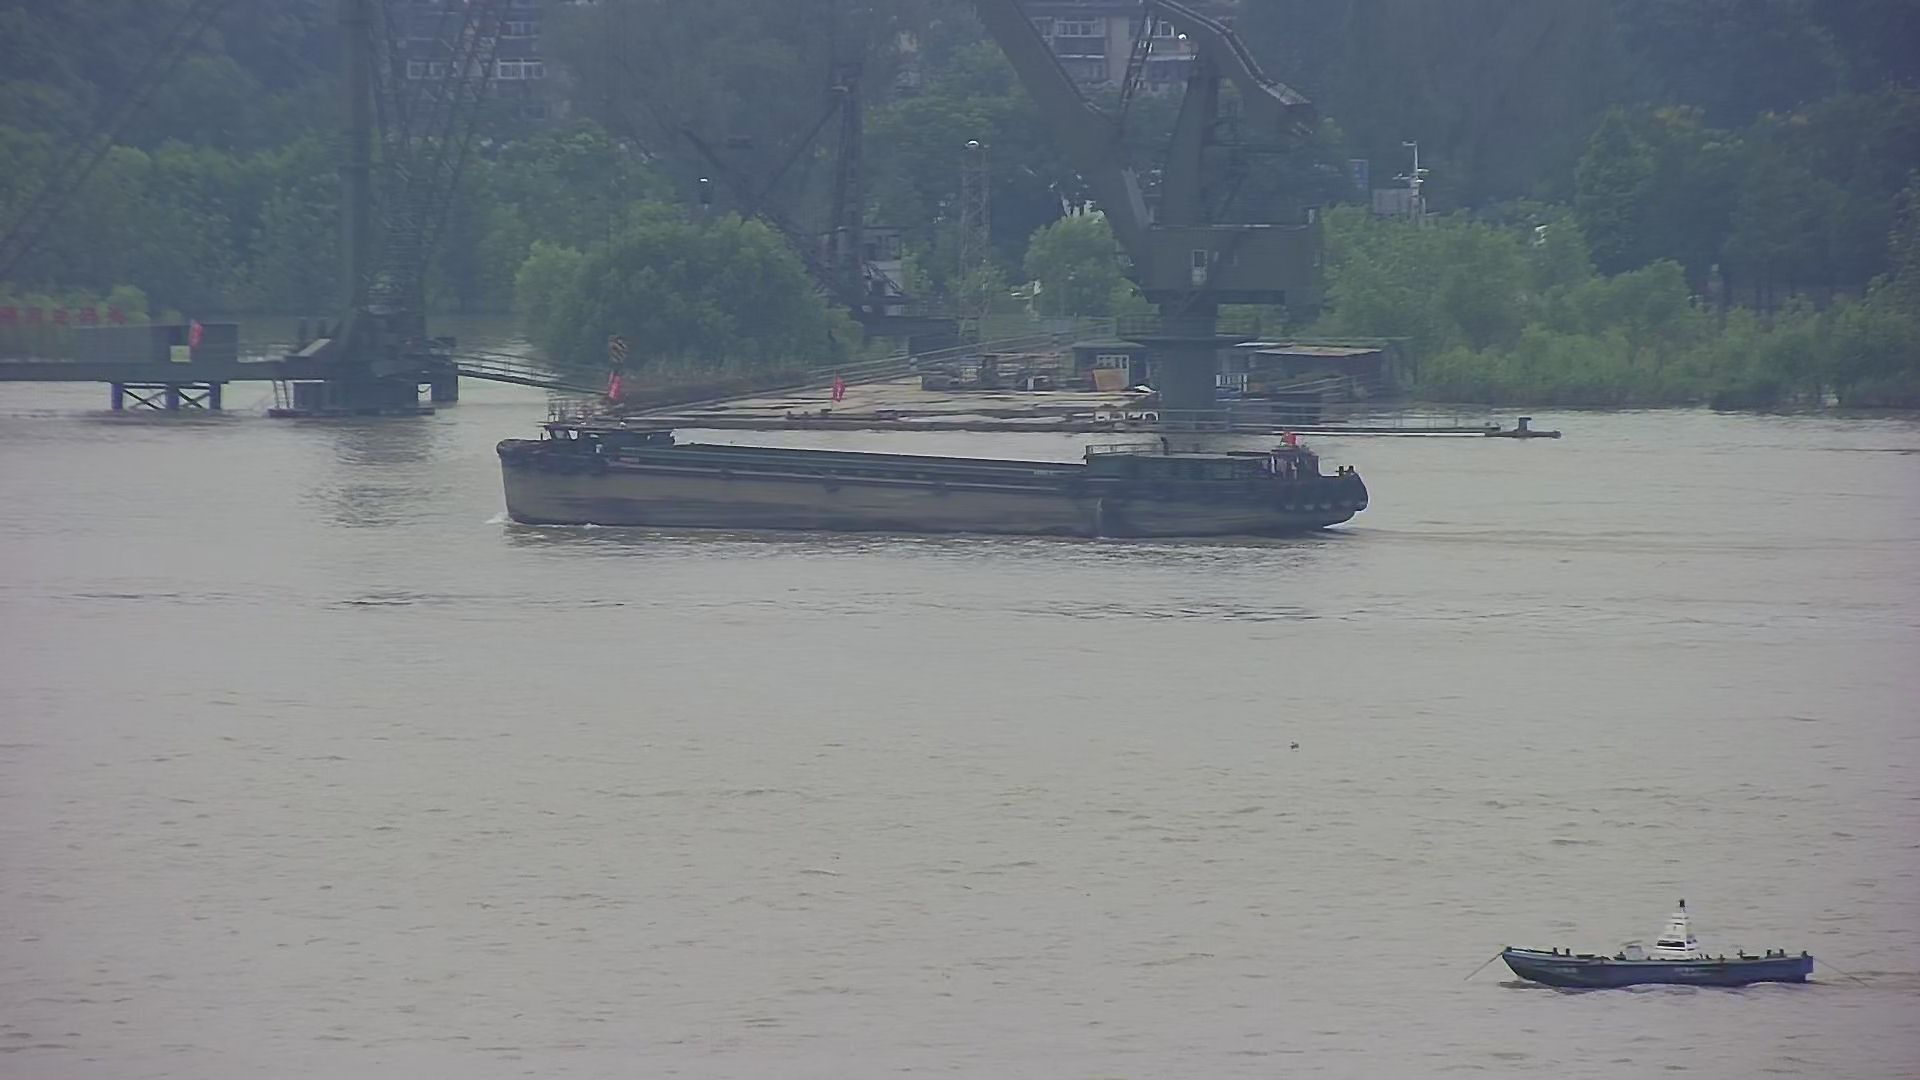boat: (1461, 874, 1870, 1014)
platform: (1, 1, 489, 427)
ship: (485, 411, 1385, 556)
